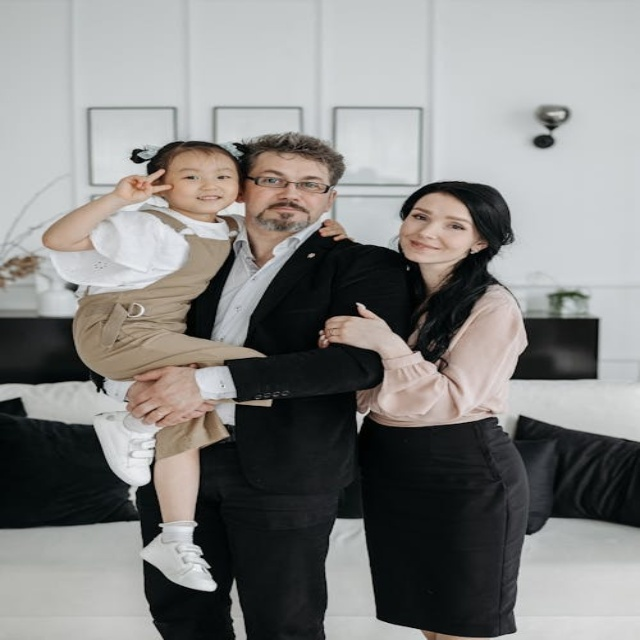Gafas: (248, 167, 335, 197)
Sin_gafas: (404, 202, 472, 232), (173, 165, 236, 183)
Sin_guantes: (123, 362, 216, 426), (323, 296, 403, 355), (113, 164, 175, 201)
Sin_mascara: (253, 197, 310, 231), (398, 232, 451, 262), (188, 192, 229, 211)
